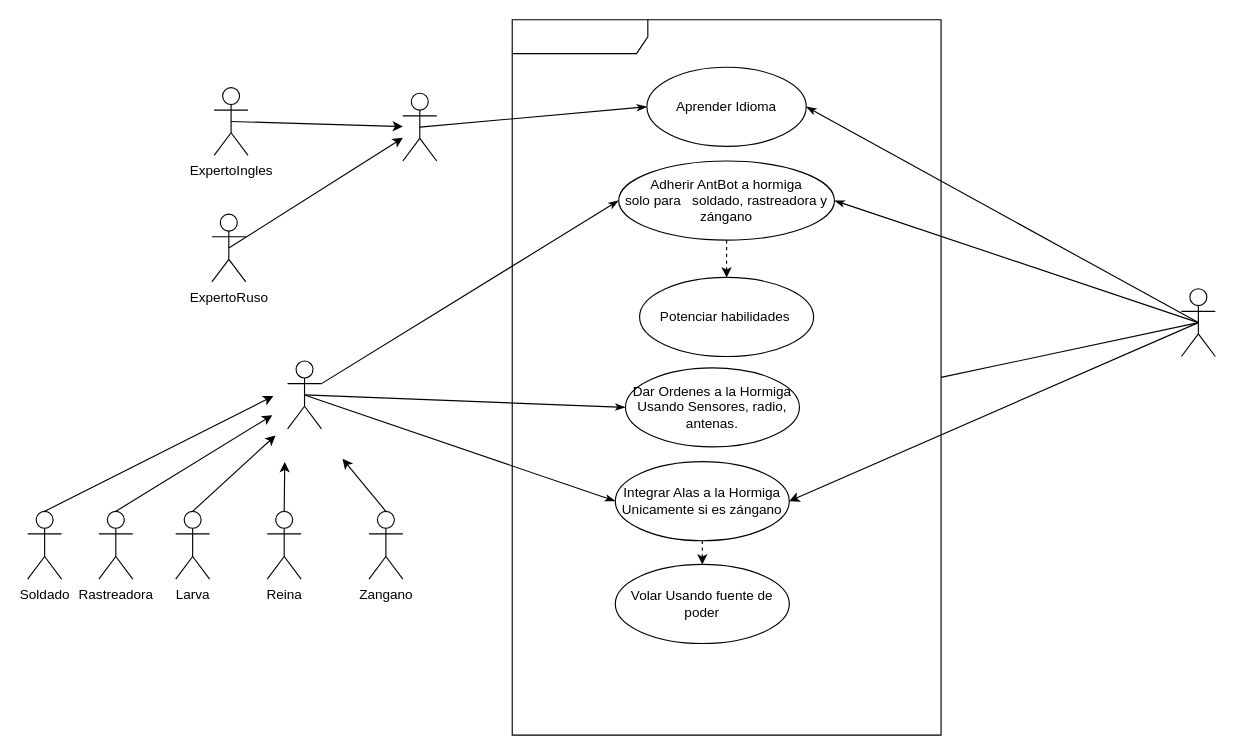
The diagram is 1235 pixels wide and 755 high, and some of its shapes have lost their labels. Here are the shapes that lost their labels. From the top down, the centre of each, then its label:
the point at 419,126: ExpertoIdiomas
the point at 1197,322: IABot
the point at 303,394: Hormiga
the point at 726,377: AntBot
